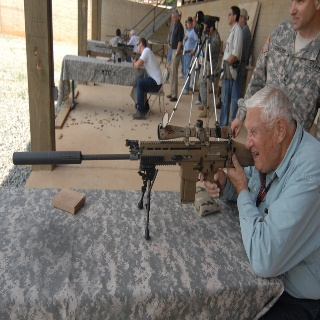rifle: (10, 111, 255, 239)
